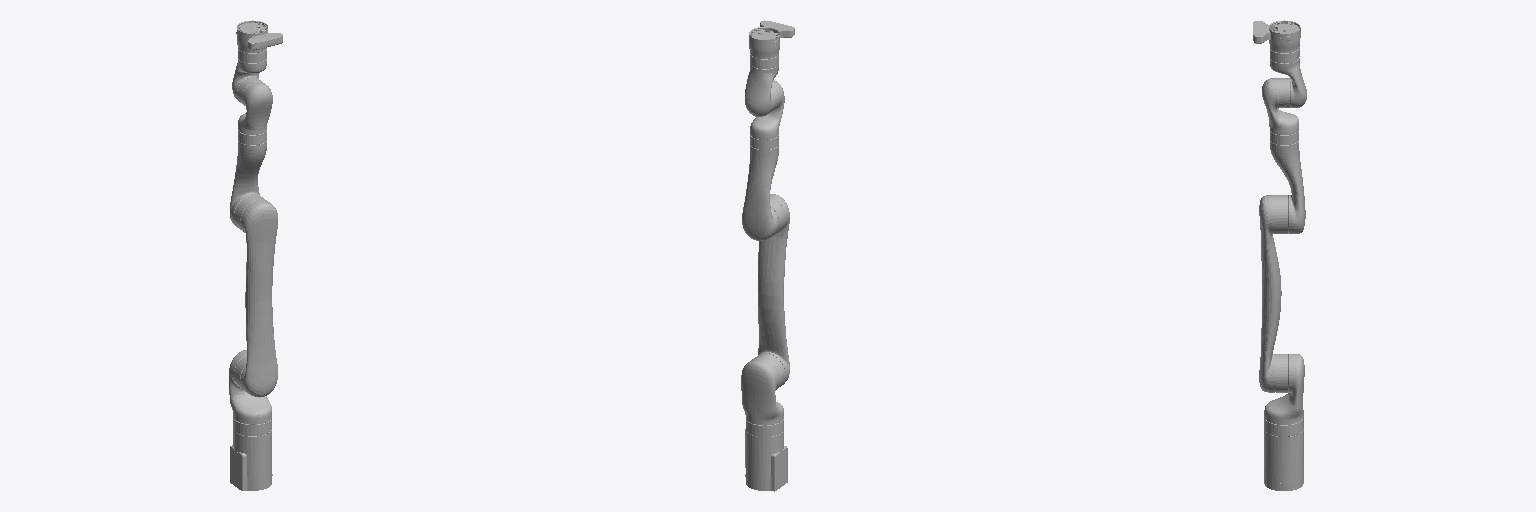
robot.urdf — GEN3-6DOF_VISION_URDF_ARM_V01:
<robot name="GEN3-6DOF_VISION_URDF_ARM_V01" version="1.0">
  <link name="Base_Link">
    <inertial>
      <origin xyz="-0.000648 -0.000166 0.084487" rpy="0 0 0" />
      <mass value="1.697" />
      <inertia ixx="0.004622" ixy="9E-06" ixz="6E-05" iyy="0.004495" iyz="9E-06" izz="0.002079" />
    </inertial>
    <visual>
      <origin xyz="0 0 0" rpy="0 0 0" />
      <geometry>
        <mesh filename="package://kortex_description/arms/gen3/6dof/meshes/base_link.STL" />
      </geometry>
      <material name="">
        <color rgba="0.75294 0.75294 0.75294 1" />
      </material>
    </visual>
    <collision>
      <origin xyz="0 0 0" rpy="0 0 0" />
      <geometry>
        <mesh filename="package://kortex_description/arms/gen3/6dof/meshes/base_link.STL" />
      </geometry>
    </collision>
  </link>
  <link name="Shoulder_Link">
    <inertial>
      <origin xyz="-2.3E-05 -0.010364 -0.07336" rpy="0 0 0" />
      <mass value="1.377" />
      <inertia ixx="0.00457" ixy="1E-06" ixz="2E-06" iyy="0.004831" iyz="0.000448" izz="0.001409" />
    </inertial>
    <visual>
      <origin xyz="0 0 0" rpy="0 0 0" />
      <geometry>
        <mesh filename="package://kortex_description/arms/gen3/6dof/meshes/shoulder_link.STL" />
      </geometry>
      <material name="">
        <color rgba="0.75294 0.75294 0.75294 1" />
      </material>
    </visual>
    <collision>
      <origin xyz="0 0 0" rpy="0 0 0" />
      <geometry>
        <mesh filename="package://kortex_description/arms/gen3/6dof/meshes/shoulder_link.STL" />
      </geometry>
    </collision>
  </link>
  <joint name="Actuator1" type="continuous">
    <origin xyz="0 0 0.15643" rpy="-3.1416 0.0 0.0" />
    <parent link="Base_Link" />
    <child link="Shoulder_Link" />
    <axis xyz="0 0 1" />
    <limit effort="39" velocity="0.8727" />
  </joint>
  <link name="Bicep_Link">
    <inertial>
      <origin xyz="3.5E-05 -0.208207 -0.01889" rpy="0 0 0" />
      <mass value="1.262" />
      <inertia ixx="0.046752" ixy="-9E-06" ixz="0" iyy="0.00085" iyz="-9.8E-05" izz="0.047188" />
    </inertial>
    <visual>
      <origin xyz="0 0 0" rpy="0 0 0" />
      <geometry>
        <mesh filename="package://kortex_description/arms/gen3/6dof/meshes/bicep_link.STL" />
      </geometry>
      <material name="">
        <color rgba="0.75294 0.75294 0.75294 1" />
      </material>
    </visual>
    <collision>
      <origin xyz="0 0 0" rpy="0 0 0" />
      <geometry>
        <mesh filename="package://kortex_description/arms/gen3/6dof/meshes/bicep_link.STL" />
      </geometry>
    </collision>
  </link>
  <joint name="Actuator2" type="revolute">
    <origin xyz="0 0.005375 -0.12838" rpy="1.5708 0.0 0.0" />
    <parent link="Shoulder_Link" />
    <child link="Bicep_Link" />
    <axis xyz="0 0 1" />
    <limit lower="-2.41" upper="2.41" effort="39" velocity="0.8727" />
  </joint>
  <link name="ForeArm_Link">
    <inertial>
      <origin xyz="1.8E-05 0.076168 -0.01397" rpy="0 0 0" />
      <mass value="0.93" />
      <inertia ixx="0.008292" ixy="-1E-06" ixz="0" iyy="0.000628" iyz="0.000432" izz="0.008464" />
    </inertial>
    <visual>
      <origin xyz="0 0 0" rpy="0 0 0" />
      <geometry>
        <mesh filename="package://kortex_description/arms/gen3/6dof/meshes/forearm_link.STL" />
      </geometry>
      <material name="">
        <color rgba="0.75294 0.75294 0.75294 1" />
      </material>
    </visual>
    <collision>
      <origin xyz="0 0 0" rpy="0 0 0" />
      <geometry>
        <mesh filename="package://kortex_description/arms/gen3/6dof/meshes/forearm_link.STL" />
      </geometry>
    </collision>
  </link>
  <joint name="Actuator3" type="revolute">
    <origin xyz="0 -0.41 0" rpy="3.1416 0 0" />
    <parent link="Bicep_Link" />
    <child link="ForeArm_Link" />
    <axis xyz="0 0 1" />
    <limit lower="-2.66" upper="2.66" effort="39" velocity="0.8727" />
  </joint>
  <link name="SphericalWrist1_Link">
    <inertial>
      <origin xyz="-1E-06 0.008486 -0.062937" rpy="0 0 0" />
      <mass value="0.6781" />
      <inertia ixx="0.001645" ixy="0" ixz="0" iyy="0.001666" iyz="-0.000234" izz="0.000389" />
    </inertial>
    <visual>
      <origin xyz="0 0 0" rpy="0 0 0" />
      <geometry>
        <mesh filename="package://kortex_description/arms/gen3/6dof/meshes/spherical_wrist_1_link.STL" />
      </geometry>
      <material name="">
        <color rgba="0.75294 0.75294 0.75294 1" />
      </material>
    </visual>
    <collision>
      <origin xyz="0 0 0" rpy="0 0 0" />
      <geometry>
        <mesh filename="package://kortex_description/arms/gen3/6dof/meshes/spherical_wrist_1_link.STL" />
      </geometry>
    </collision>
  </link>
  <joint name="Actuator4" type="continuous">
    <origin xyz="0 0.20843 -0.006375" rpy="1.5708 0.0 0.0" />
    <parent link="ForeArm_Link" />
    <child link="SphericalWrist1_Link" />
    <axis xyz="0 0 1" />
    <limit effort="9" velocity="0.8727" />
  </joint>
  <link name="SphericalWrist2_Link">
    <inertial>
      <origin xyz="-1E-06 0.046429 -0.008704" rpy="0 0 0" />
      <mass value="0.678" />
      <inertia ixx="0.001685" ixy="0" ixz="0" iyy="0.0004" iyz="0.000255" izz="0.001696" />
    </inertial>
    <visual>
      <origin xyz="0 0 0" rpy="0 0 0" />
      <geometry>
        <mesh filename="package://kortex_description/arms/gen3/6dof/meshes/spherical_wrist_2_link.STL" />
      </geometry>
      <material name="">
        <color rgba="0.75294 0.75294 0.75294 1" />
      </material>
    </visual>
    <collision>
      <origin xyz="0 0 0" rpy="0 0 0" />
      <geometry>
        <mesh filename="package://kortex_description/arms/gen3/6dof/meshes/spherical_wrist_2_link.STL" />
      </geometry>
    </collision>
  </link>
  <joint name="Actuator5" type="revolute">
    <origin xyz="0 -0.00017505 -0.10593" rpy="-1.5708 0.0 0.0" />
    <parent link="SphericalWrist1_Link" />
    <child link="SphericalWrist2_Link" />
    <axis xyz="0 0 1" />
    <limit lower="-2.23" upper="2.23" effort="9" velocity="0.8727" />
  </joint>
  <link name="Bracelet_Link">
    <inertial>
      <origin xyz="0.000281 0.011402 -0.029798" rpy="0 0 0" />
      <mass value="0.5" />
      <inertia ixx="0.000587" ixy="3E-06" ixz="3E-06" iyy="0.000369" iyz="-0.000118" izz="0.000609" />
    </inertial>
    <visual>
      <origin xyz="0 0 0" rpy="0 0 0" />
      <geometry>
        <mesh filename="package://kortex_description/arms/gen3/6dof/meshes/bracelet_with_vision_link.STL" />
      </geometry>
      <material name="">
        <color rgba="0.75294 0.75294 0.75294 1" />
      </material>
    </visual>
    <collision>
      <origin xyz="0 0 0" rpy="0 0 0" />
      <geometry>
        <mesh filename="package://kortex_description/arms/gen3/6dof/meshes/bracelet_with_vision_link.STL" />
      </geometry>
    </collision>
  </link>
  <joint name="Actuator6" type="continuous">
    <origin xyz="0 0.10593 -0.00017505" rpy="1.5708 0.0 0.0" />
    <parent link="SphericalWrist2_Link" />
    <child link="Bracelet_Link" />
    <axis xyz="0 0 1" />
    <limit effort="9" velocity="0.8727" />
  </joint>
  <link name="EndEffector_Link">
    <inertial>
      <origin xyz="0 0 0" rpy="0 0 0" />
      <mass value="0" />
      <inertia ixx="0" ixy="0" ixz="0" iyy="0" iyz="0" izz="0" />
    </inertial>
    <visual>
      <origin xyz="0 0 0" rpy="0 0 0" />
      <geometry>
        <mesh filename="package://kortex_description/arms/gen3/6dof/meshes/EndEffector_Link.STL" />
      </geometry>
      <material name="">
        <color rgba="0.75294 0.75294 0.75294 1" />
      </material>
    </visual>
    <collision>
      <origin xyz="0 0 0" rpy="0 0 0" />
      <geometry>
        <mesh filename="package://kortex_description/arms/gen3/6dof/meshes/EndEffector_Link.STL" />
      </geometry>
    </collision>
  </link>
  <joint name="EndEffector" type="fixed">
    <origin xyz="0 0 -0.061525" rpy="3.1416 0 -3.1416" />
    <parent link="Bracelet_Link" />
    <child link="EndEffector_Link" />
    <axis xyz="0 0 0" />
  </joint>
</robot>

--- Facts derived from the render (not from the file) ---
3 views of the same robot in one strip: view 1: azimuth 30°, elevation 25°; view 2: azimuth 150°, elevation 25°; view 3: azimuth 270°, elevation 25° (orthographic).
Robot: GEN3-6DOF_VISION_URDF_ARM_V01 — 8 links, 7 joints (3 revolute, 3 continuous, 1 fixed); root link Base_Link; default pose: every joint at zero.
Links seen in each view (by area): view 1: Bicep_Link, Base_Link, ForeArm_Link, Shoulder_Link, SphericalWrist1_Link, Bracelet_Link, SphericalWrist2_Link; view 2: Bicep_Link, ForeArm_Link, Base_Link, Shoulder_Link, SphericalWrist2_Link, Bracelet_Link, SphericalWrist1_Link; view 3: Bicep_Link, Base_Link, Shoulder_Link, ForeArm_Link, SphericalWrist1_Link, Bracelet_Link, SphericalWrist2_Link.
Boxes of the visible links, bbox=[...] form: Bicep_Link: bbox=[234, 195, 277, 397]; Base_Link: bbox=[230, 418, 272, 490]; ForeArm_Link: bbox=[230, 130, 266, 227]; Shoulder_Link: bbox=[229, 350, 271, 424]; SphericalWrist1_Link: bbox=[237, 77, 272, 134]; Bracelet_Link: bbox=[236, 20, 282, 52]; SphericalWrist2_Link: bbox=[232, 49, 266, 101]; Bicep_Link: bbox=[758, 194, 789, 384]; ForeArm_Link: bbox=[742, 135, 778, 240]; Base_Link: bbox=[745, 419, 787, 491]; Shoulder_Link: bbox=[741, 353, 785, 425]; SphericalWrist2_Link: bbox=[745, 54, 778, 116]; Bracelet_Link: bbox=[749, 20, 794, 58]; SphericalWrist1_Link: bbox=[750, 80, 784, 139]; Bicep_Link: bbox=[1259, 195, 1287, 392]; Base_Link: bbox=[1264, 417, 1303, 490]; Shoulder_Link: bbox=[1264, 354, 1304, 424]; ForeArm_Link: bbox=[1270, 131, 1305, 233]; SphericalWrist1_Link: bbox=[1262, 78, 1298, 134]; Bracelet_Link: bbox=[1253, 20, 1300, 52]; SphericalWrist2_Link: bbox=[1270, 47, 1306, 107].
Size in the robot's own frame: 0.0928 by 0.1278 by 1.18 metres.
7 mesh visuals loaded from 8 distinct referenced files (7 binary STL); not drawn: 1 (reference not matched to a file when rendering).